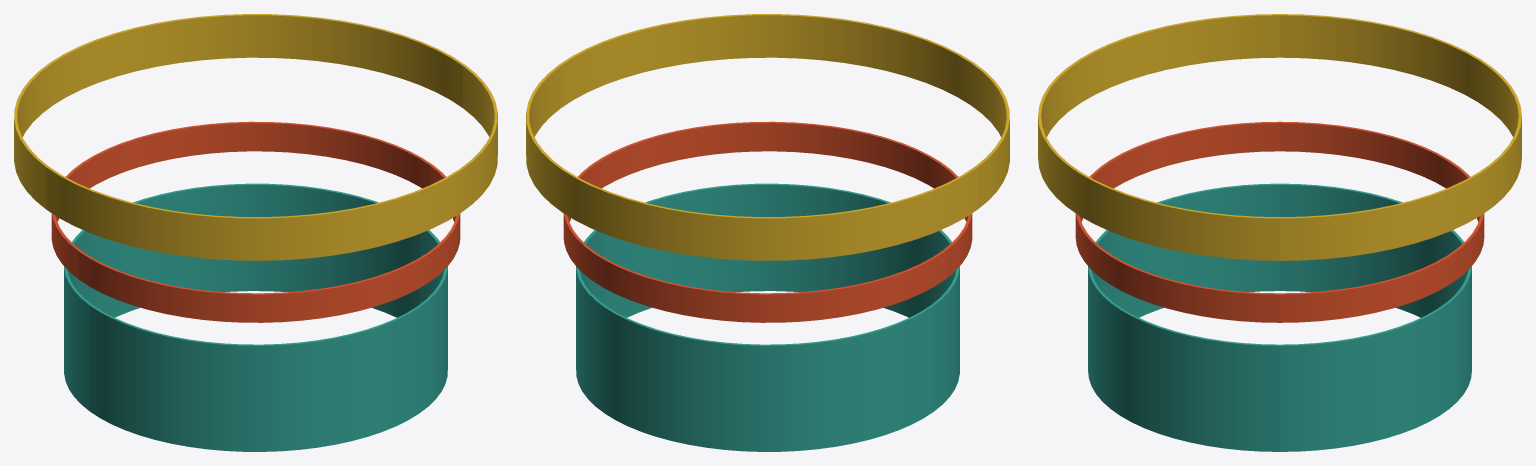
The model's file is cooling_tower_fan_pressure.glb.
3 views of the same model, side by side, from view 1: azimuth 30°, elevation 25°; view 2: azimuth 150°, elevation 25°; view 3: azimuth 270°, elevation 25° (orthographic).
Visible parts, largest first — view 1: pressure__front, pressure__back; view 2: pressure__back, pressure__front; view 3: pressure__back, pressure__front.
Part boxes in pixels (x1,y1,x2,y2): pressure__front: [46, 65, 497, 451]; pressure__back: [14, 14, 464, 410]; pressure__back: [526, 65, 977, 451]; pressure__front: [559, 14, 1009, 410]; pressure__back: [1280, 14, 1521, 451]; pressure__front: [1038, 14, 1279, 451].
Size of the model in its own units: 3.1 by 1.8 by 3.1.
